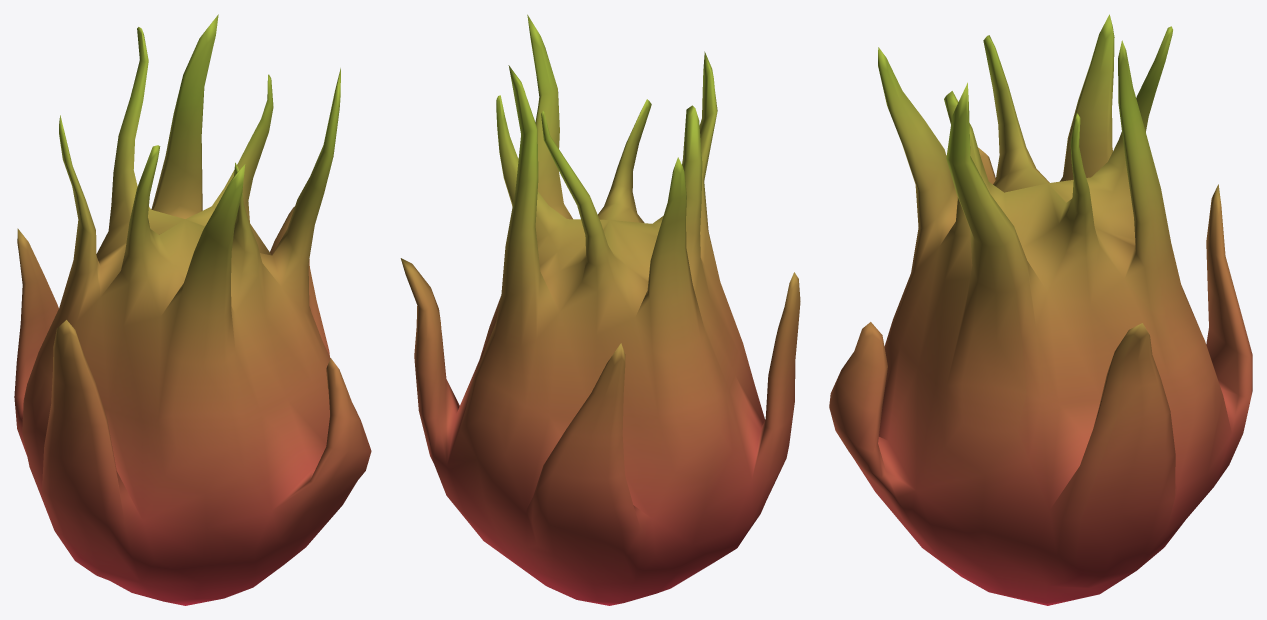
Rendered from dragon.FBX.
3 views of the same model, side by side, from view 1: azimuth 30°, elevation 25°; view 2: azimuth 150°, elevation 25°; view 3: azimuth 270°, elevation 25° (orthographic). The views are drawn at different scales.
Visible parts, largest first — view 1: Dragon; view 2: Dragon; view 3: Dragon.
Boxes of the visible parts, x1=… form: Dragon: x1=14, y1=14, x2=371, y2=605; Dragon: x1=400, y1=14, x2=800, y2=605; Dragon: x1=829, y1=14, x2=1252, y2=605.
Bounding box in the file's own units: 8.82 × 14.32 × 9.14.
